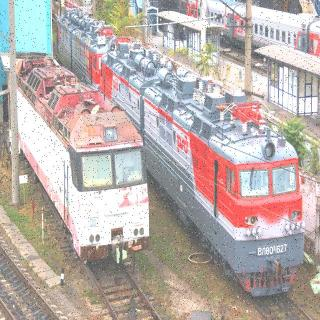poezd: (145, 73, 297, 294), (14, 58, 149, 268)
